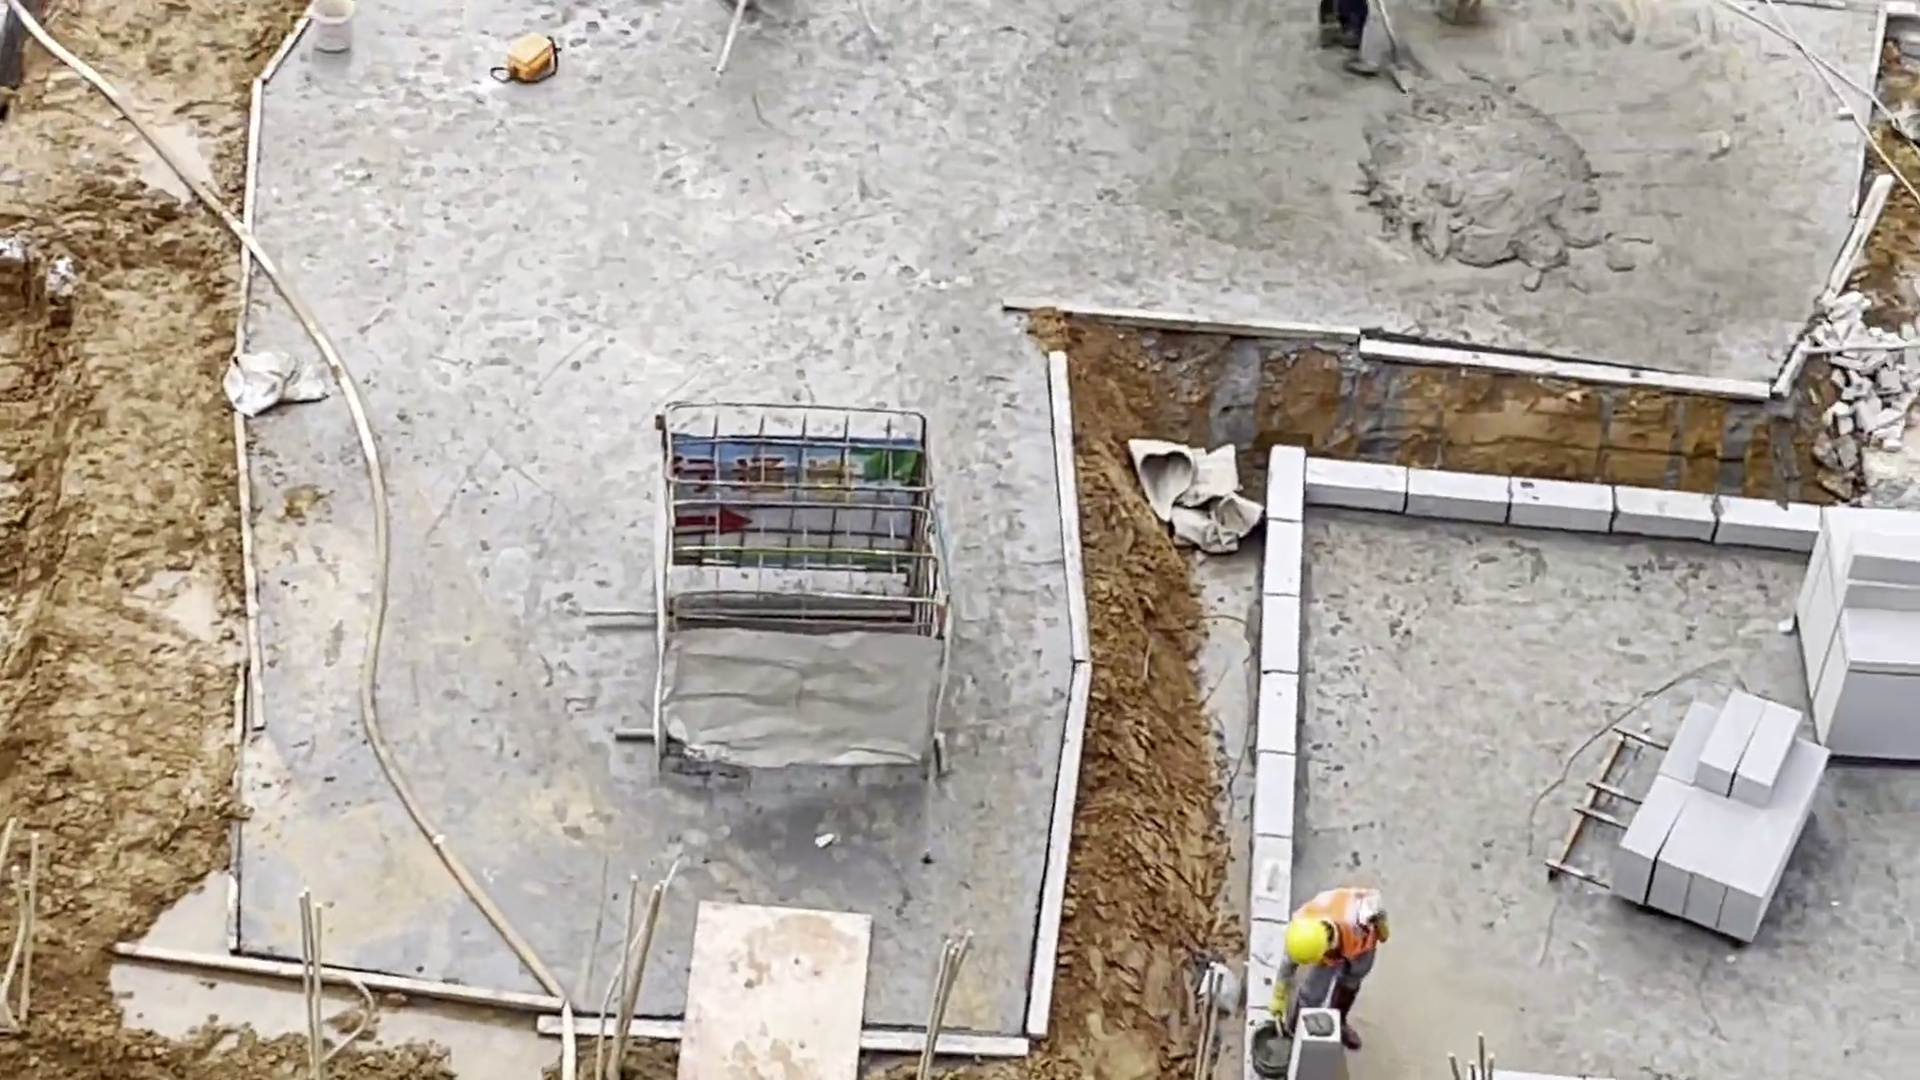brick: (1621, 698, 1827, 942), (1311, 458, 1814, 554), (1247, 442, 1301, 1080), (1805, 505, 1920, 762)
helmet: (1284, 920, 1324, 962)
person: (1270, 884, 1386, 1048)
vest: (1303, 888, 1379, 955)
